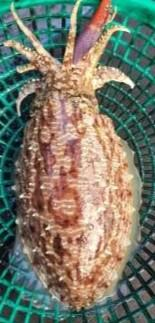Cephalopod: (4, 0, 141, 309)
